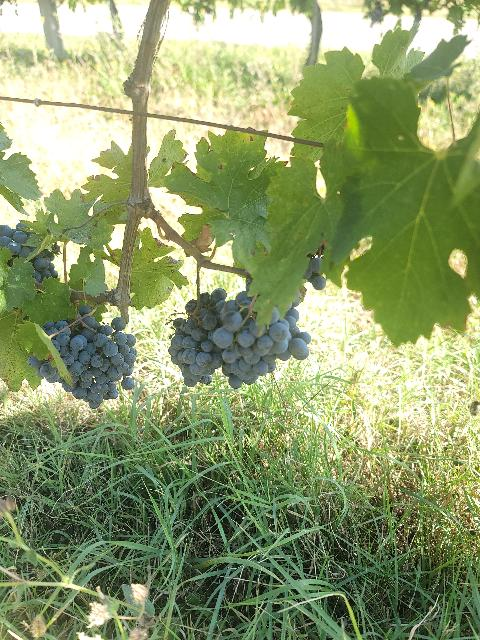grapes: (28, 305, 138, 409), (209, 282, 310, 388), (169, 289, 226, 388)
